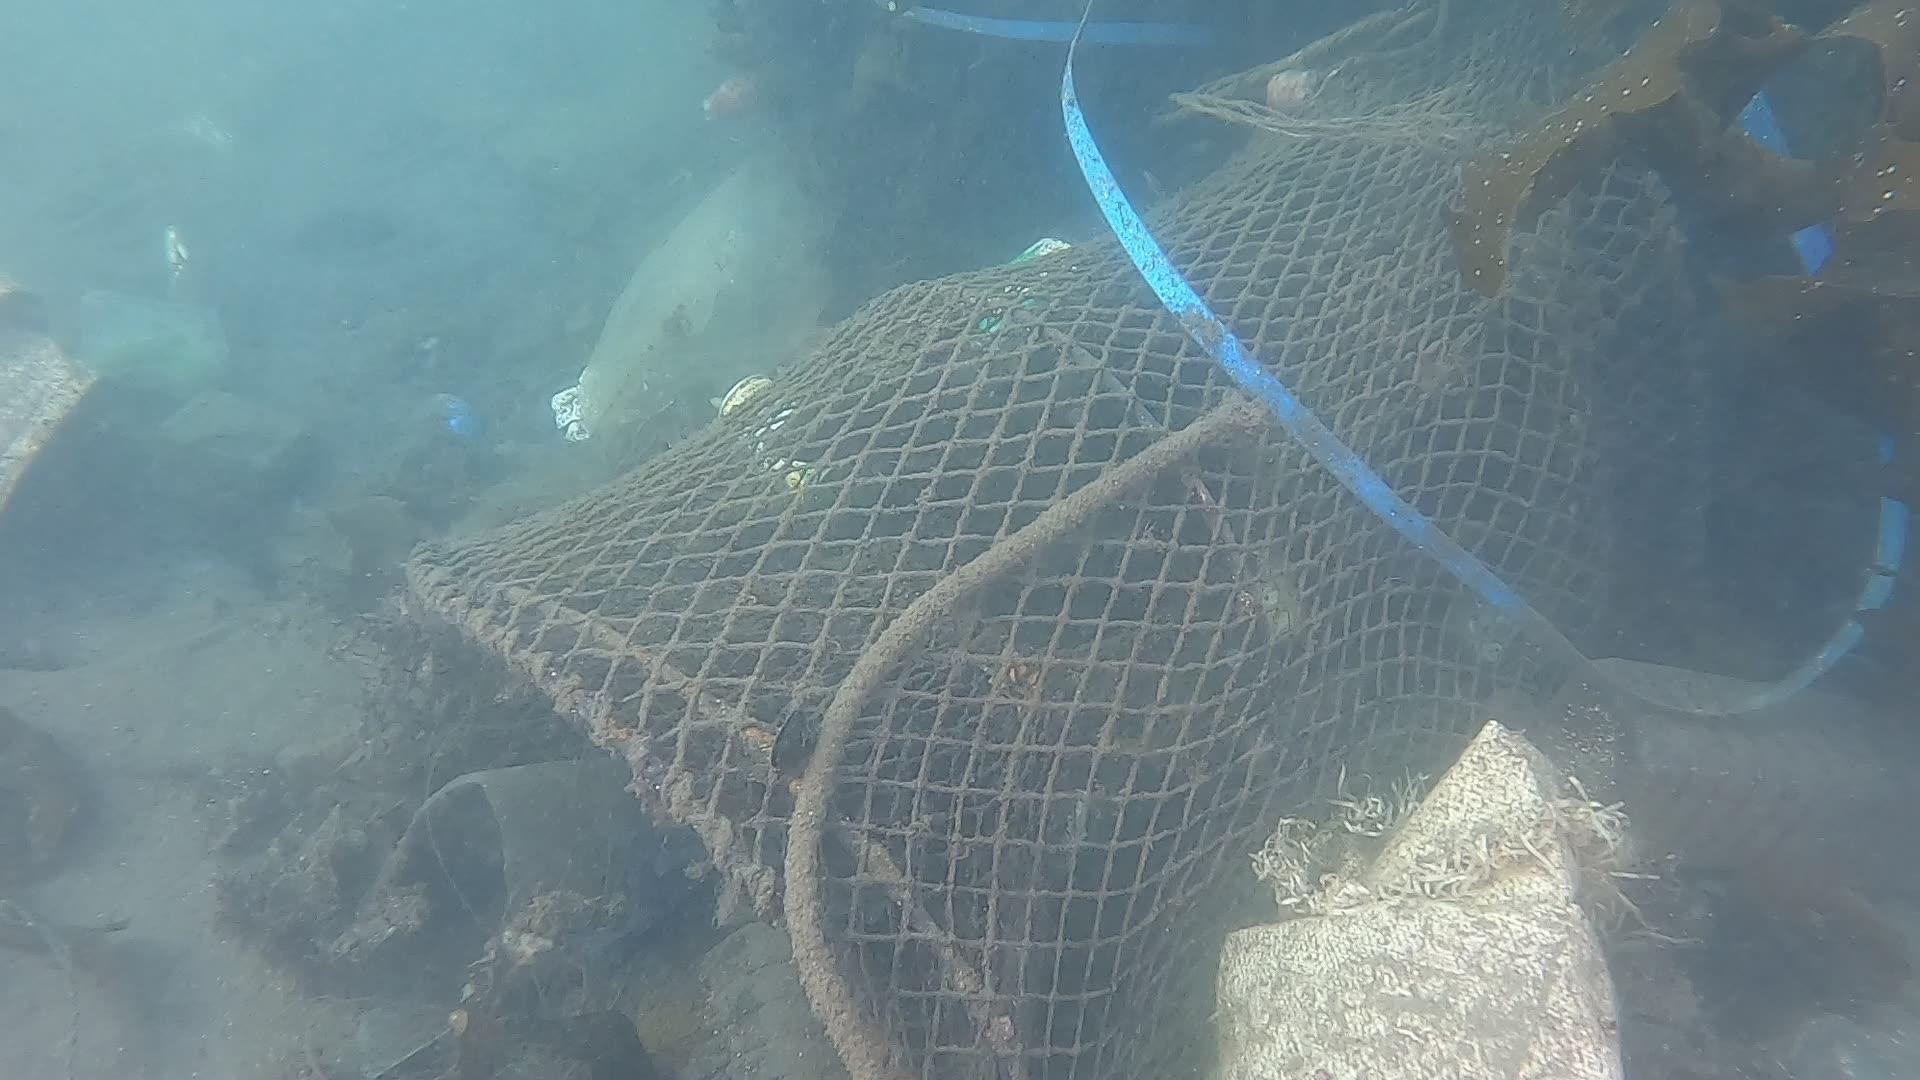spring fish trap: (404, 0, 1920, 1079)
